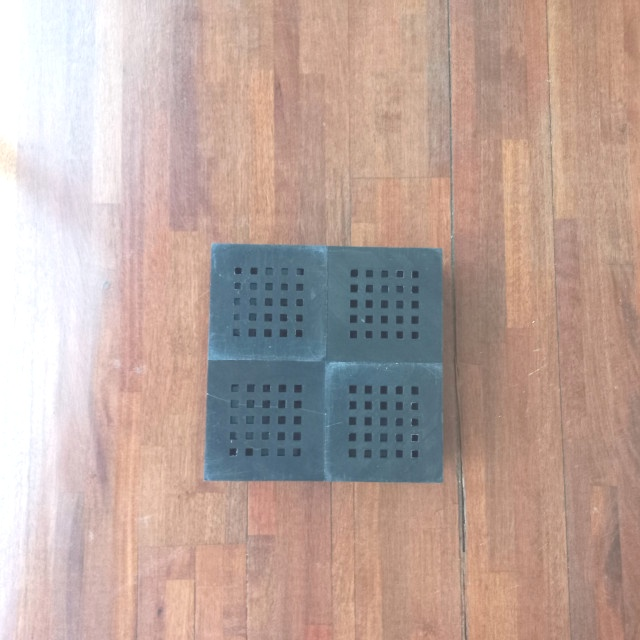pallet: (202, 240, 448, 487)
